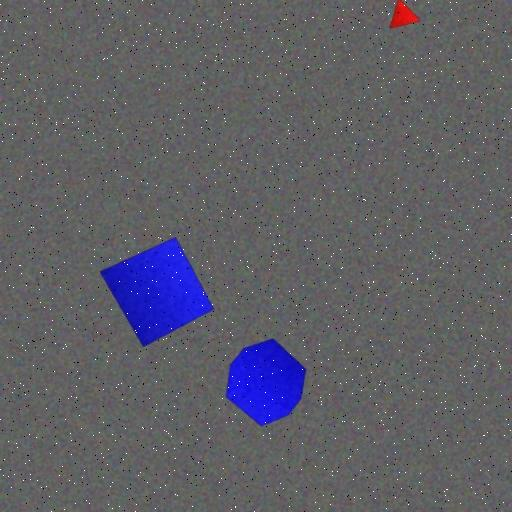BLUE_SQUARE: (98, 237, 214, 348)
